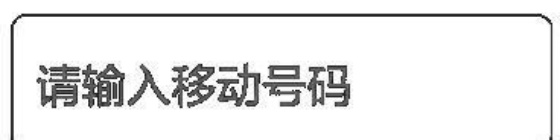EditText: (1, 1, 559, 139)
